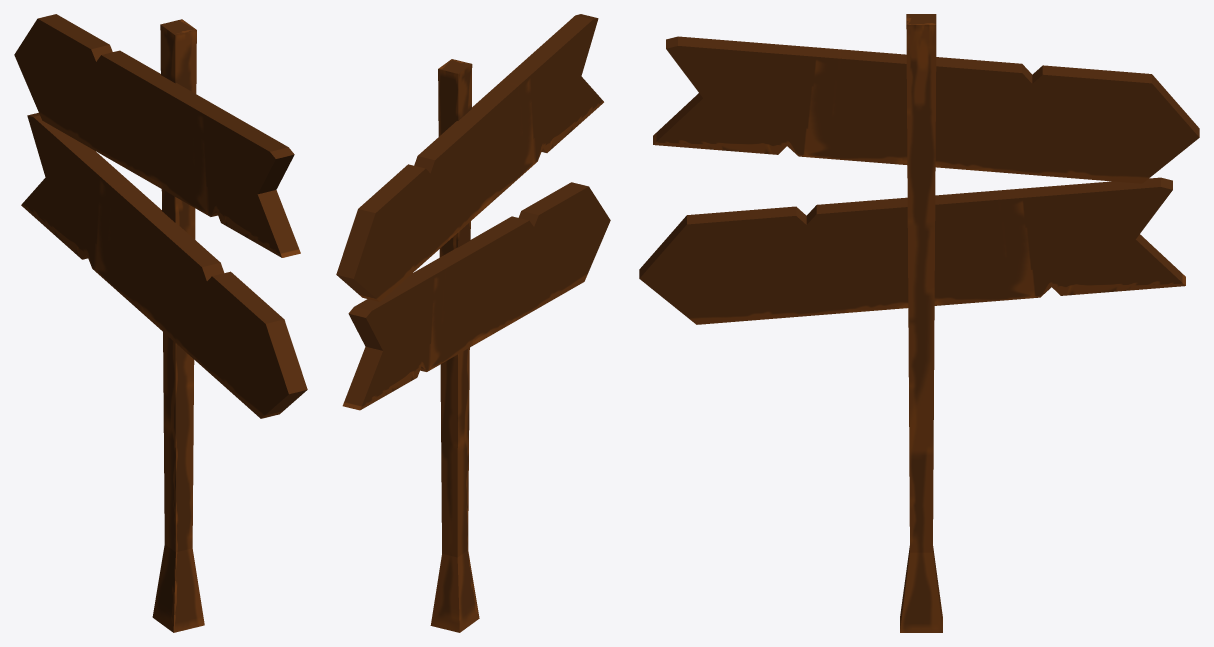
File: Cartel.fbx
3 renders of one model, left to right at view 1: azimuth 30°, elevation 25°; view 2: azimuth 150°, elevation 25°; view 3: azimuth 270°, elevation 25°, orthographic. The views are drawn at different scales.
Visible parts, largest first — view 1: Cube.002, Cube.001; view 2: Cube.002, Cube.001; view 3: Cube.002, Cube.001.
Boxes of the visible parts, x1,y1,x2,y2 form: Cube.002: [14, 14, 307, 418]; Cube.001: [152, 19, 204, 632]; Cube.002: [336, 14, 610, 410]; Cube.001: [430, 59, 479, 632]; Cube.002: [639, 36, 1199, 324]; Cube.001: [900, 14, 942, 632].
Bounding box in the file's own units: 33.04 × 430 × 360.
